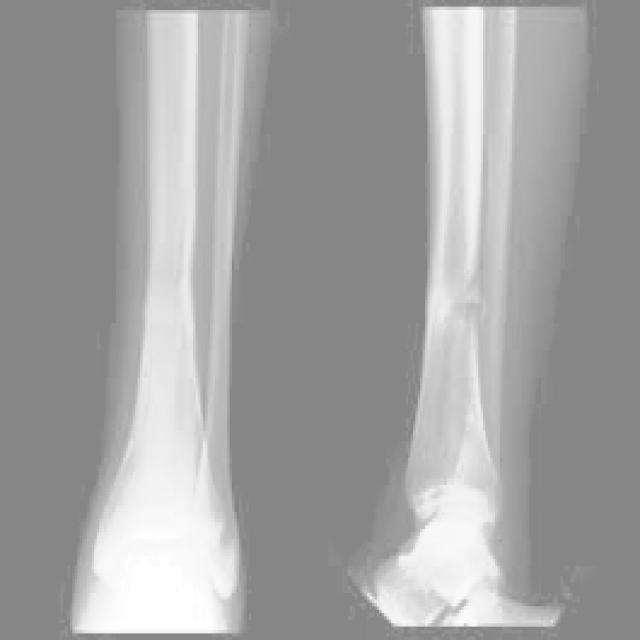HairLine Fracture: (448, 271, 489, 330)
